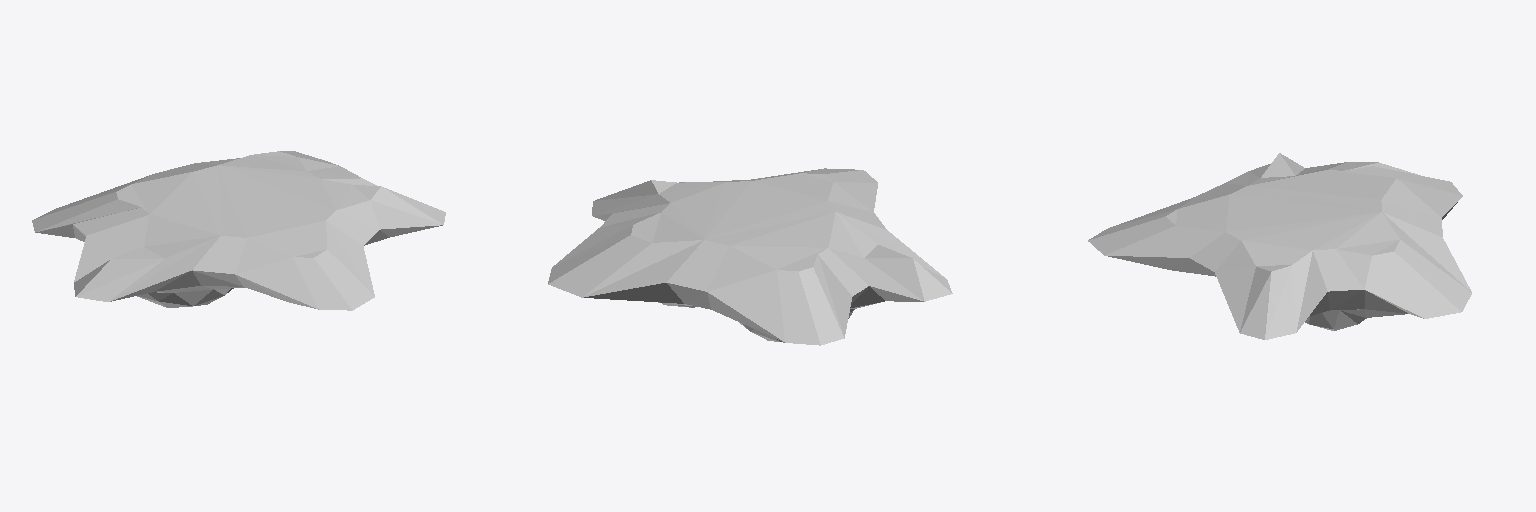
File: star.obj
The picture shows the model from 3 angles: view 1: azimuth 30°, elevation 25°; view 2: azimuth 150°, elevation 25°; view 3: azimuth 270°, elevation 25°; orthographic projection.
Visible parts, largest first — view 1: star; view 2: star; view 3: star.
Boxes of the visible parts, <box> form: star: <box>32,151,445,310</box>; star: <box>548,168,952,345</box>; star: <box>1088,153,1471,339</box>.
Size of the model in its own units: 174 by 45.68 by 159.